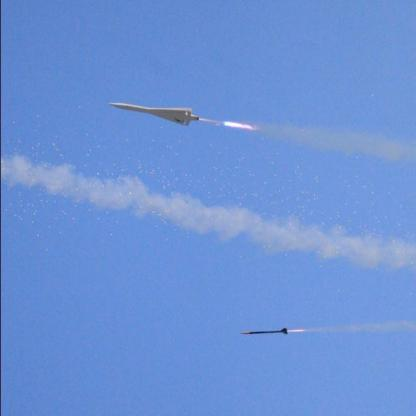MIL_TBM: (107, 101, 198, 127), (238, 326, 288, 336)
